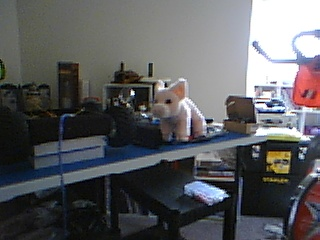piggy: (151, 77, 207, 144)
